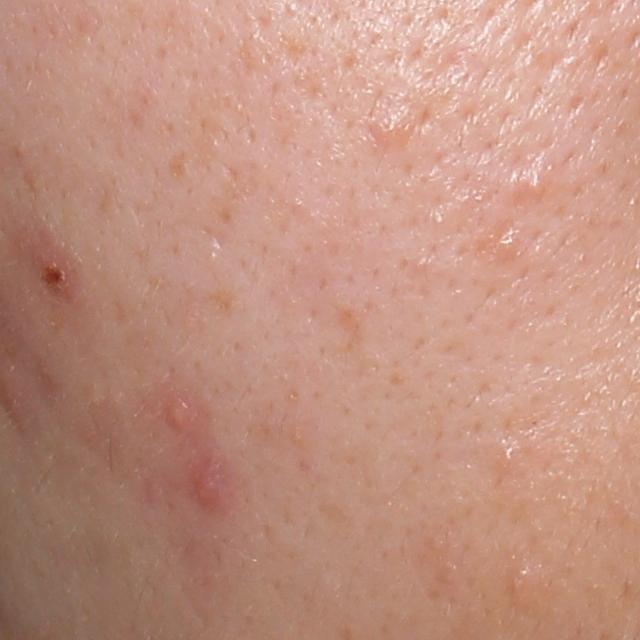comedo: (372, 115, 405, 147), (521, 170, 546, 201), (493, 230, 519, 257), (497, 440, 516, 470)
papule: (185, 467, 232, 518), (36, 246, 75, 298), (158, 398, 195, 440)
